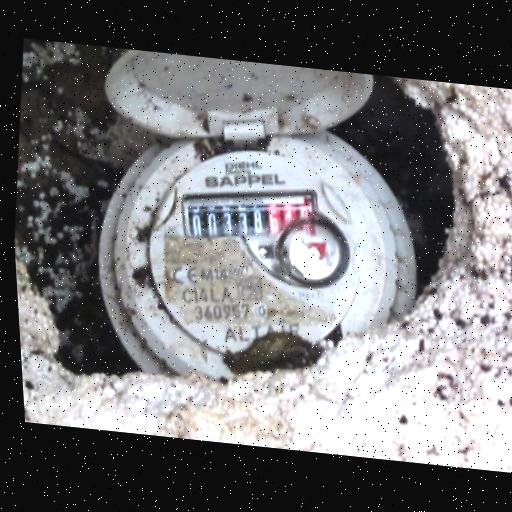0: (199, 205, 225, 240), (184, 204, 208, 239)
1: (275, 202, 302, 233)
3: (230, 205, 256, 238), (216, 204, 239, 238)
6: (262, 203, 286, 236)
8: (246, 203, 272, 237)
border_water_meter_number: (175, 177, 324, 253)
